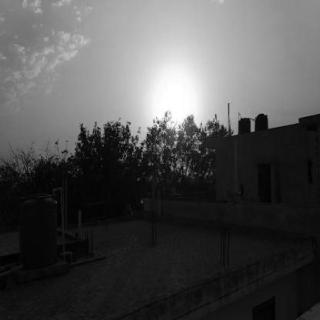other: (146, 63, 202, 145)
